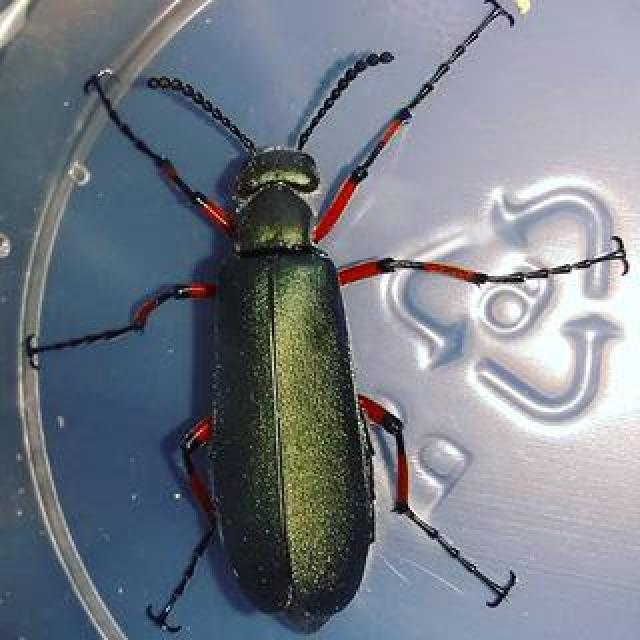BlisterBeetle-Adult-: (29, 51, 625, 625)
